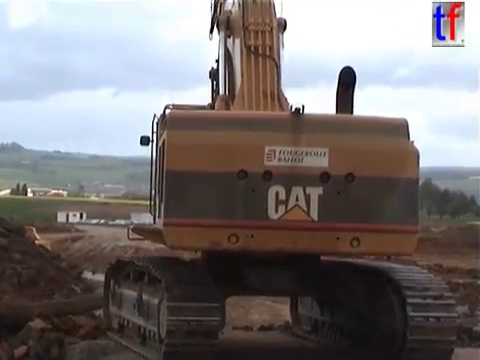excavator: (98, 1, 461, 360)
truck: (1, 222, 122, 360)
